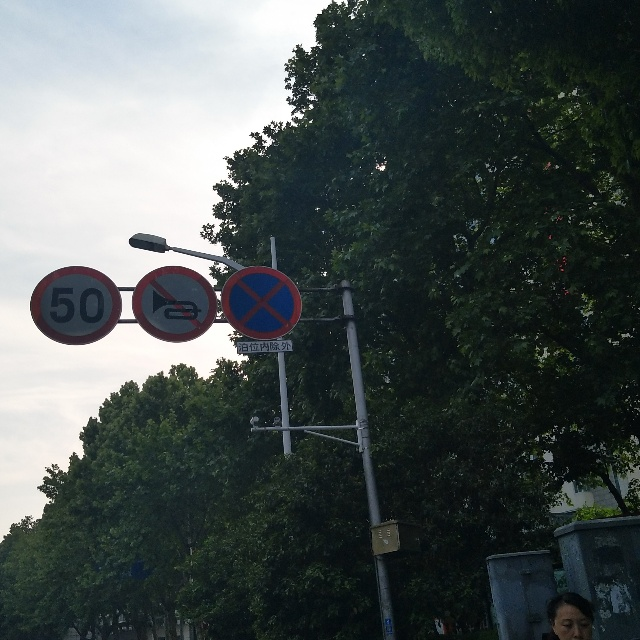nohonk: (129, 262, 219, 349)
stop: (219, 263, 308, 342)
